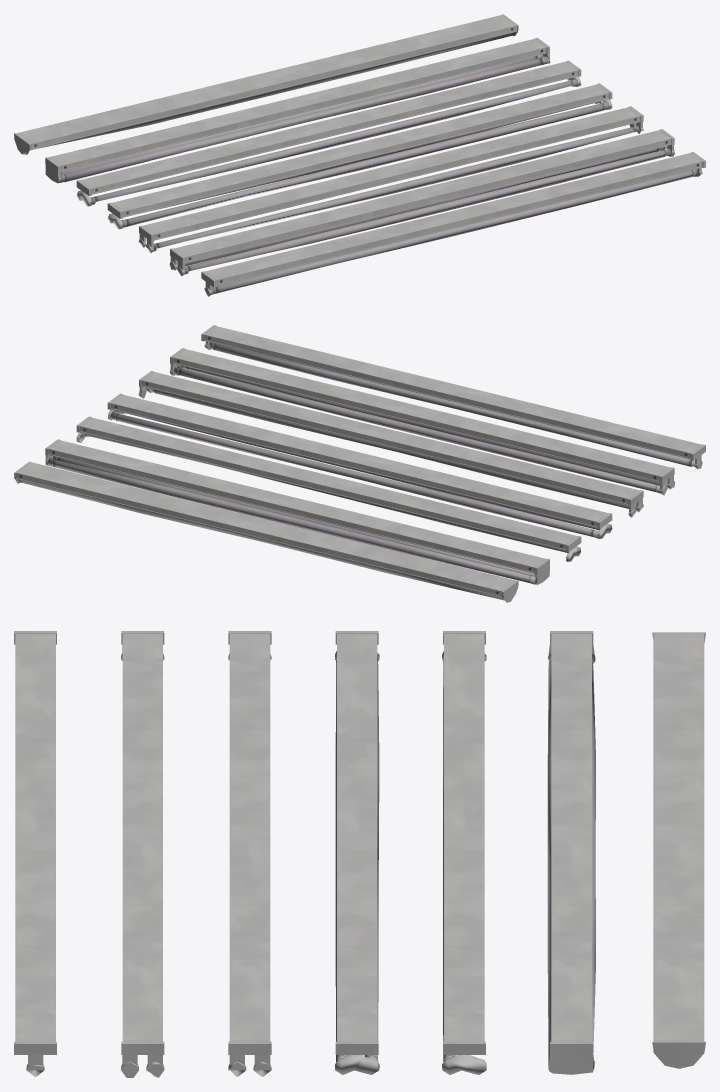
File: fluorescent.glb
3 views of the same model, one above another, from view 1: azimuth 30°, elevation 25°; view 2: azimuth 150°, elevation 25°; view 3: azimuth 270°, elevation 25° (orthographic). The views are drawn at different scales.
Visible parts, largest first — view 1: mounted_fluorescent_lights_b, mounted_fluorescent_lights_f, mounted_fluorescent_lights_d, mounted_fluorescent_lights_e, mounted_fluorescent_lights_c, mounted_fluorescent_lights_a, mounted_fluorescent_lights_g; view 2: mounted_fluorescent_lights_f, mounted_fluorescent_lights_b, mounted_fluorescent_lights_d, mounted_fluorescent_lights_a, mounted_fluorescent_lights_g, mounted_fluorescent_lights_c, mounted_fluorescent_lights_e; view 3: mounted_fluorescent_lights_g, mounted_fluorescent_lights_f, mounted_fluorescent_lights_d, mounted_fluorescent_lights_e, mounted_fluorescent_lights_c, mounted_fluorescent_lights_b, mounted_fluorescent_lights_a.
Part boxes in pixels (x1,y1,x2,y2): mounted_fluorescent_lights_b: (169,129,674,276); mounted_fluorescent_lights_f: (45,37,550,183); mounted_fluorescent_lights_d: (107,83,612,229); mounted_fluorescent_lights_e: (76,60,581,206); mounted_fluorescent_lights_c: (138,106,643,252); mounted_fluorescent_lights_a: (201,152,705,296); mounted_fluorescent_lights_g: (14,14,518,154); mounted_fluorescent_lights_f: (45,439,549,584); mounted_fluorescent_lights_b: (170,348,674,495); mounted_fluorescent_lights_d: (107,393,612,539); mounted_fluorescent_lights_a: (201,325,705,469); mounted_fluorescent_lights_g: (14,461,518,602); mounted_fluorescent_lights_c: (138,371,643,517); mounted_fluorescent_lights_e: (76,416,581,561); mounted_fluorescent_lights_g: (652,632,705,1068); mounted_fluorescent_lights_f: (547,631,595,1074); mounted_fluorescent_lights_d: (335,631,379,1074); mounted_fluorescent_lights_e: (442,631,486,1074); mounted_fluorescent_lights_c: (228,631,271,1076); mounted_fluorescent_lights_b: (121,631,164,1077); mounted_fluorescent_lights_a: (14,631,56,1076).
Size of the model in its own units: 0.9122 by 0.0352 by 0.6454.
2 materials, 2 textured.
